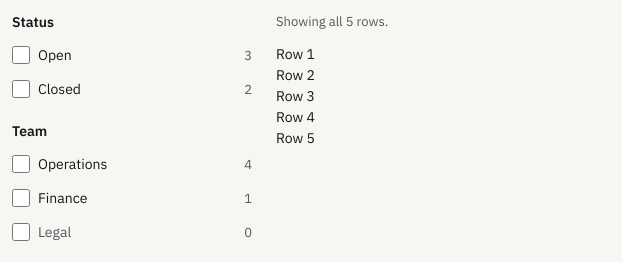
Test: FacetedFilters › explains a dead end instead of showing an empty list (edge case: zero results)
Click the checkbox named "Legal 0 results". click: (21, 232)
box: [12, 223, 30, 241]
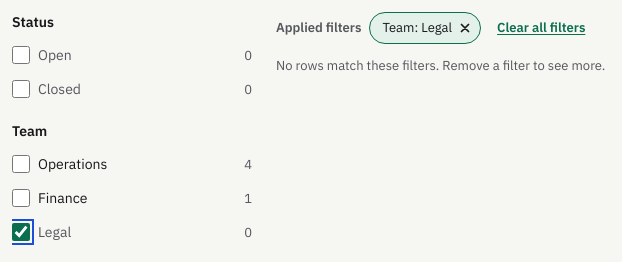
Result: the message reads "No rows match these filters. Remove a filter to see more." at [276, 57, 605, 74]
